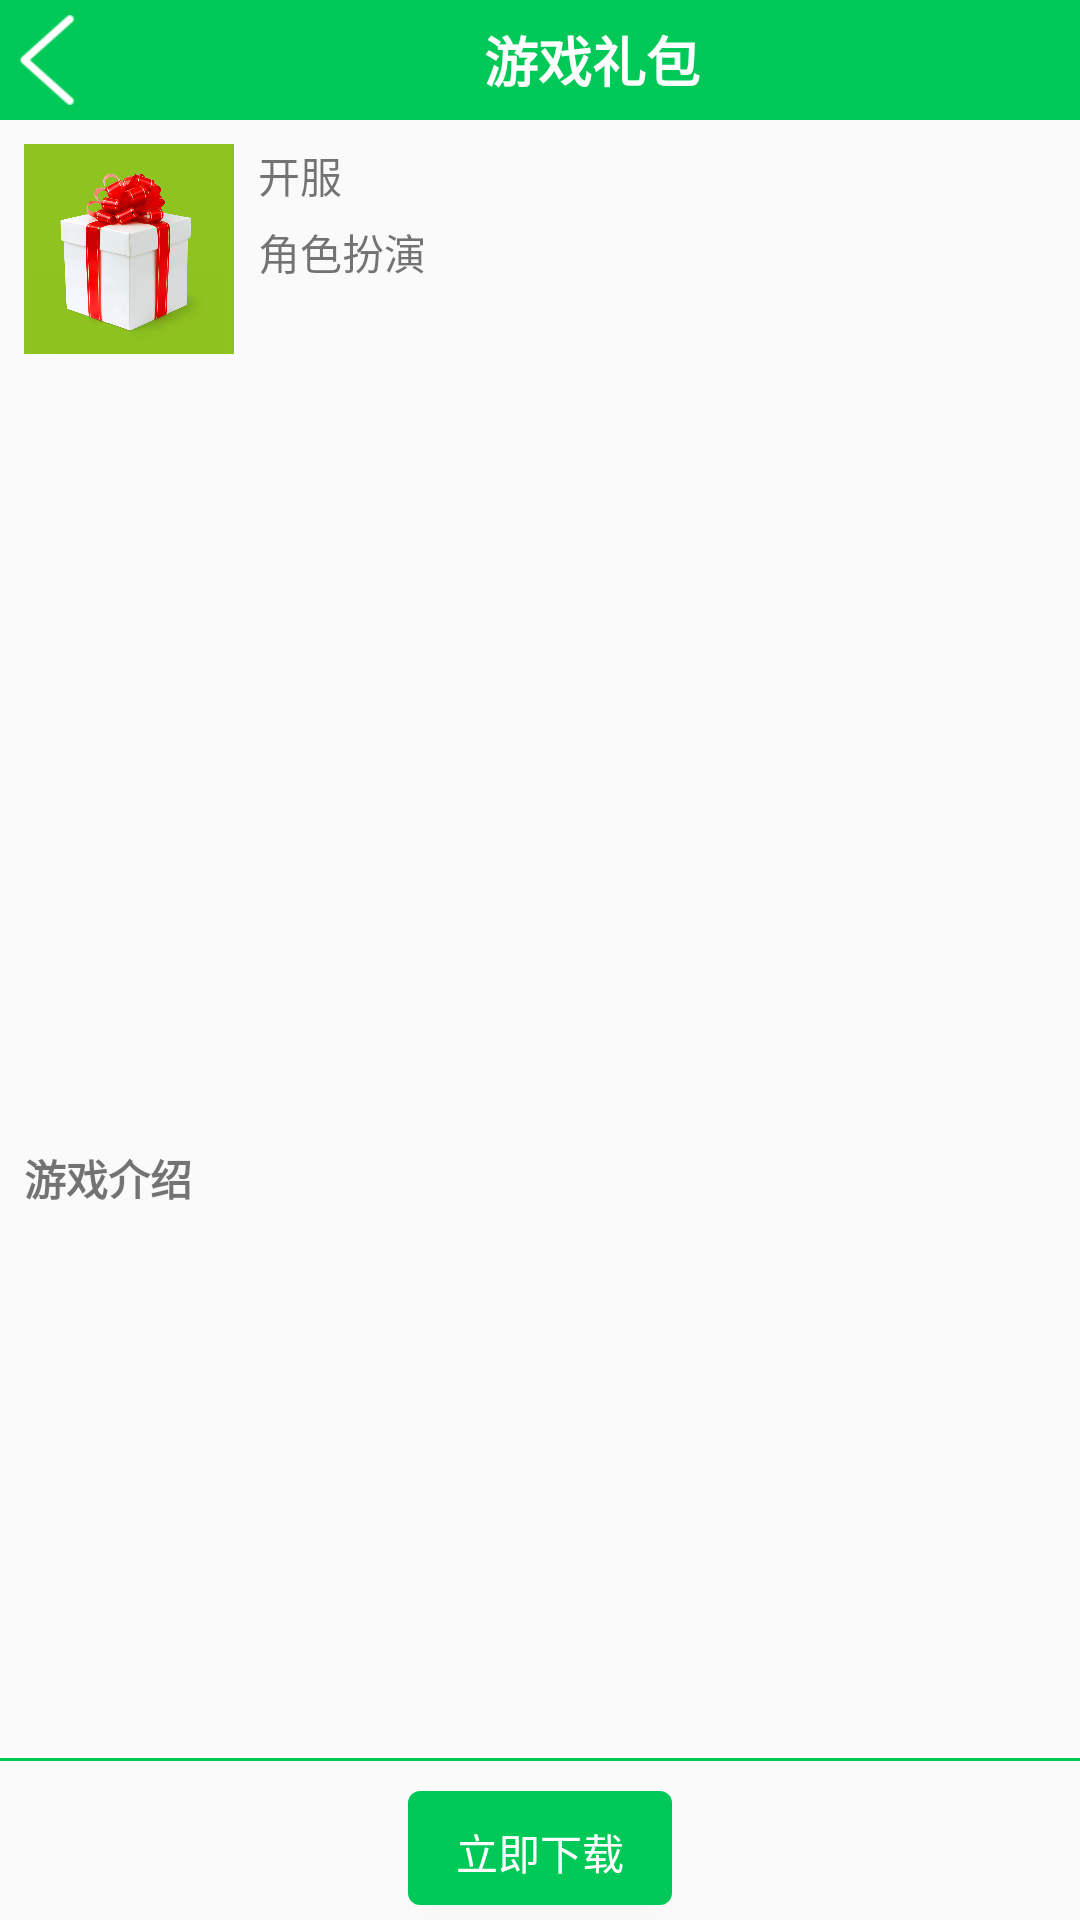

Screen size 1080w x 1920h. Icon name, then its box in pixels as (x1, y1, x2, y2):
back: (20, 15, 75, 105)
gift: (24, 144, 234, 354)
